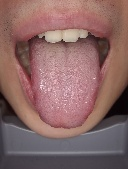tongue: (29, 44, 100, 131)
